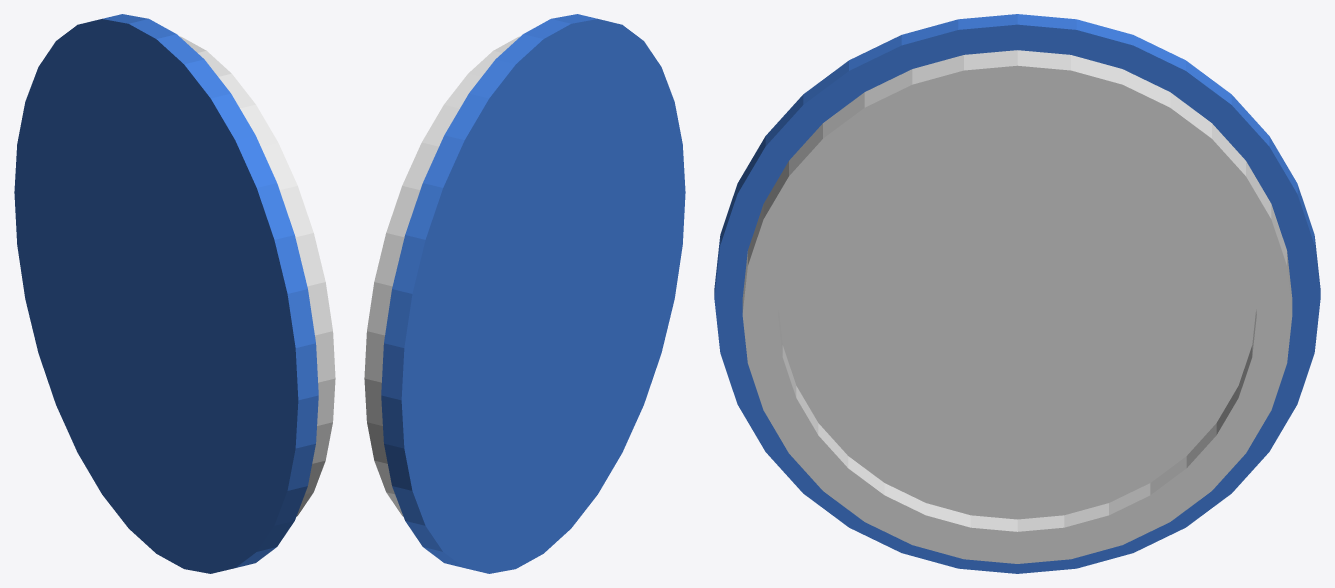
Rendered from Timer without chimes 1.fbx.
3 views of the same model, side by side, from view 1: azimuth 30°, elevation 25°; view 2: azimuth 150°, elevation 25°; view 3: azimuth 270°, elevation 25° (orthographic). The views are drawn at different scales.
Visible parts, largest first — view 1: Circle.001, Circle; view 2: Circle.001, Circle; view 3: Circle, Circle.001.
Boxes of the visible parts, x1,y1,x2,y2 form: Circle.001: (14,14,318,573); Circle: (179,36,335,516); Circle.001: (381,14,685,573); Circle: (364,36,520,516); Circle: (742,50,1292,563); Circle.001: (714,14,1320,573).
Bounding box in the file's own units: 22.59 × 220 × 220.
